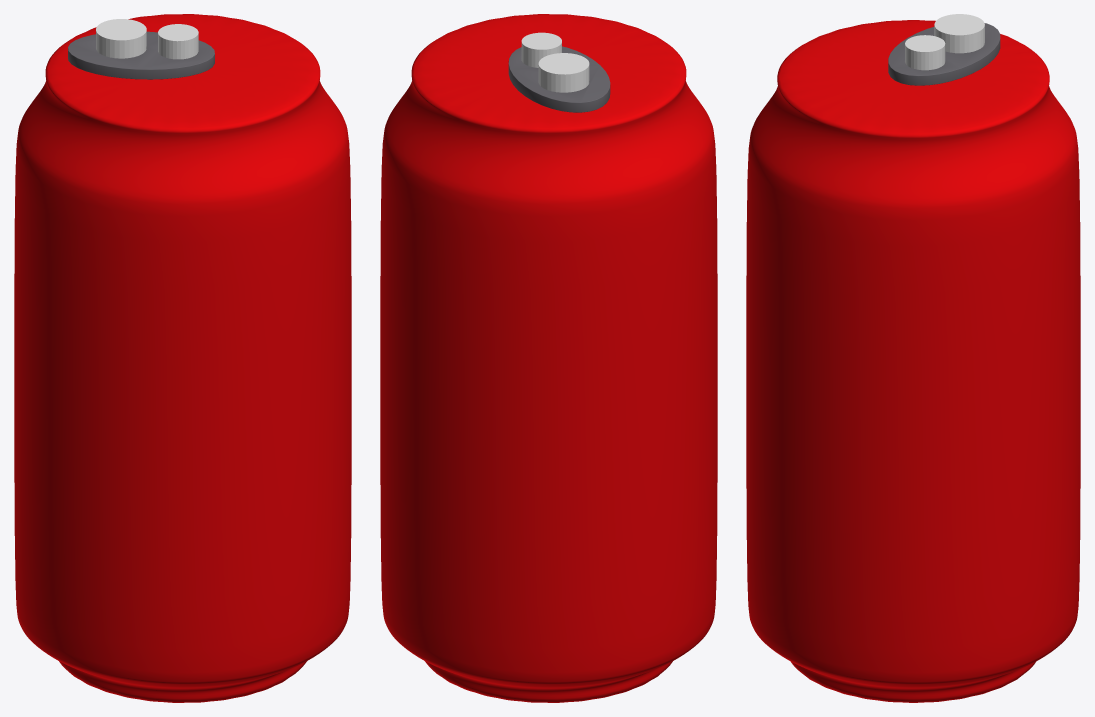
Rendered from SodaCan.fbx.
3 views of the same model, side by side, from view 1: azimuth 30°, elevation 25°; view 2: azimuth 150°, elevation 25°; view 3: azimuth 270°, elevation 25° (orthographic).
Parts seen in each view (by area): view 1: Cylinder, Cylinder.002, Cylinder.001, Cylinder.003; view 2: Cylinder, Cylinder.002, Cylinder.001, Cylinder.003; view 3: Cylinder, Cylinder.002, Cylinder.001, Cylinder.003.
Part boxes in pixels (x1,y1,x2,y2): Cylinder: (14,14,351,702); Cylinder.002: (68,31,214,79); Cylinder.001: (96,19,146,58); Cylinder.003: (158,24,198,59); Cylinder: (380,14,717,702); Cylinder.002: (508,46,610,112); Cylinder.001: (538,53,589,92); Cylinder.003: (521,32,561,67); Cylinder: (746,20,1080,702); Cylinder.002: (888,23,1000,85); Cylinder.001: (934,14,984,53); Cylinder.003: (905,35,945,70).
Bounding box in the file's own units: 121 × 245 × 121.
